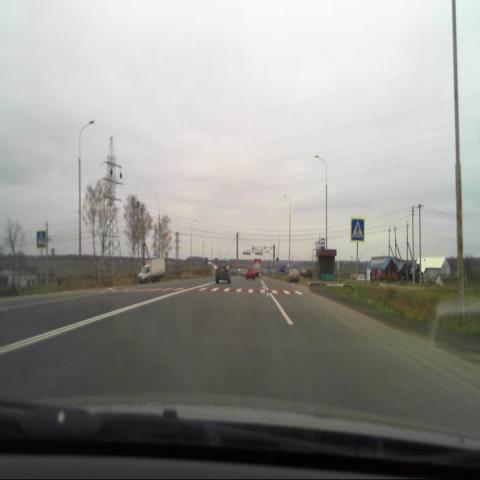5_19_1: (350, 218, 365, 243), (35, 231, 45, 248)
